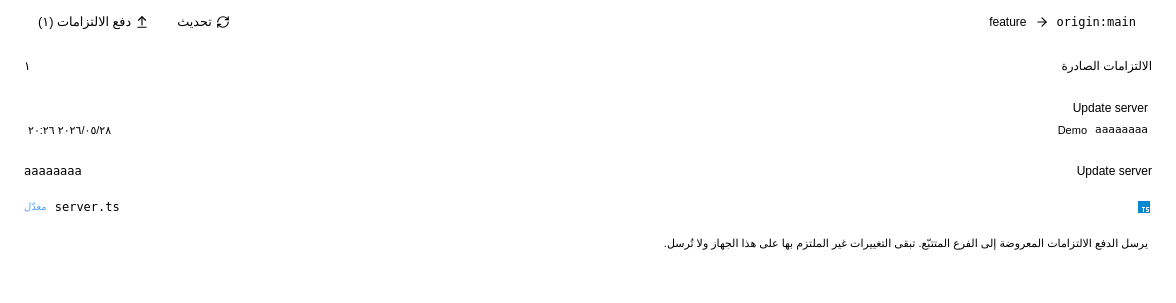
Test: moves files into the commit column, compares committed revisions, and restores the list in ar
Click the button "server.ts معدّل". click: (87, 206)
box: [12,190,1164,222]
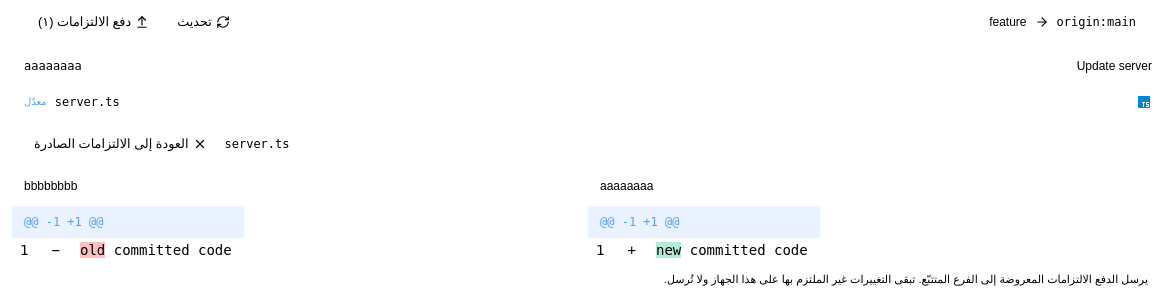
Expected: the text "aaaaaaaa" in the row of "bbbbbbbb" is shown, [600,179,653,193]
Expected: the text "bbbbbbbb" is shown, [24,179,77,193]
Click the button "العودة إلى الالتزامات الصادرة". click: (120, 144)
box: [24,130,216,158]
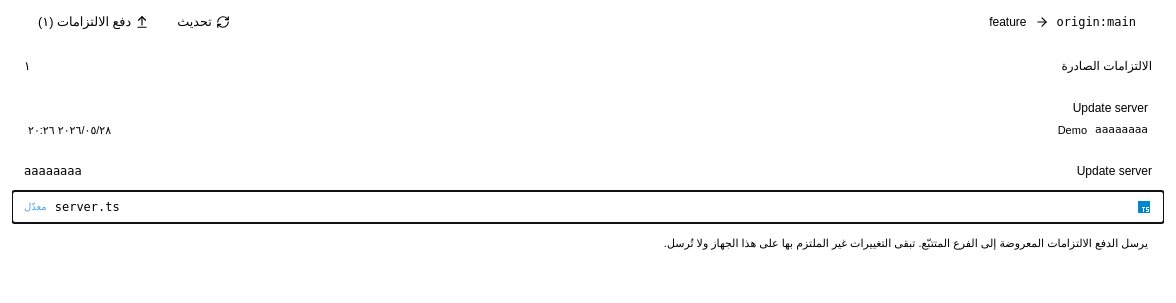
Expected: the element "الالتزامات الصادرة" is shown, [12,50,1164,154]
